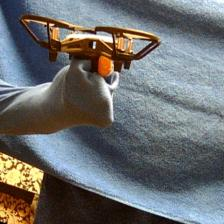drone: (18, 13, 164, 74)
